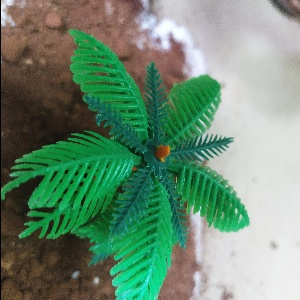plant: (6, 13, 268, 297)
